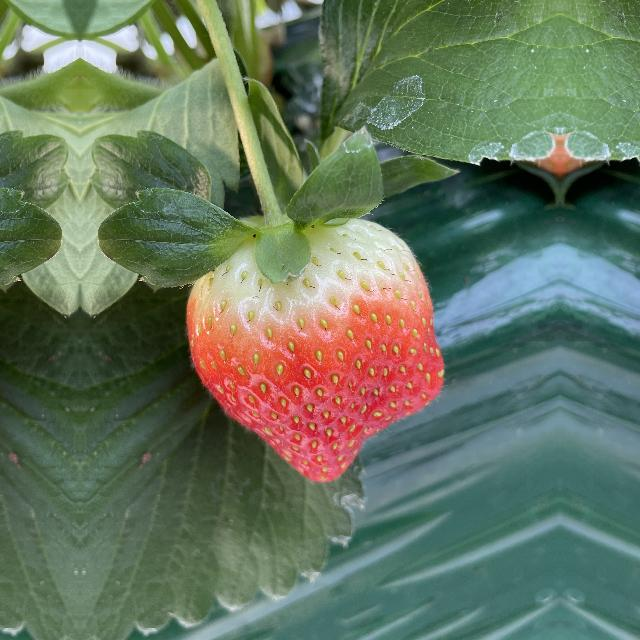Health_100: (181, 208, 451, 488)
